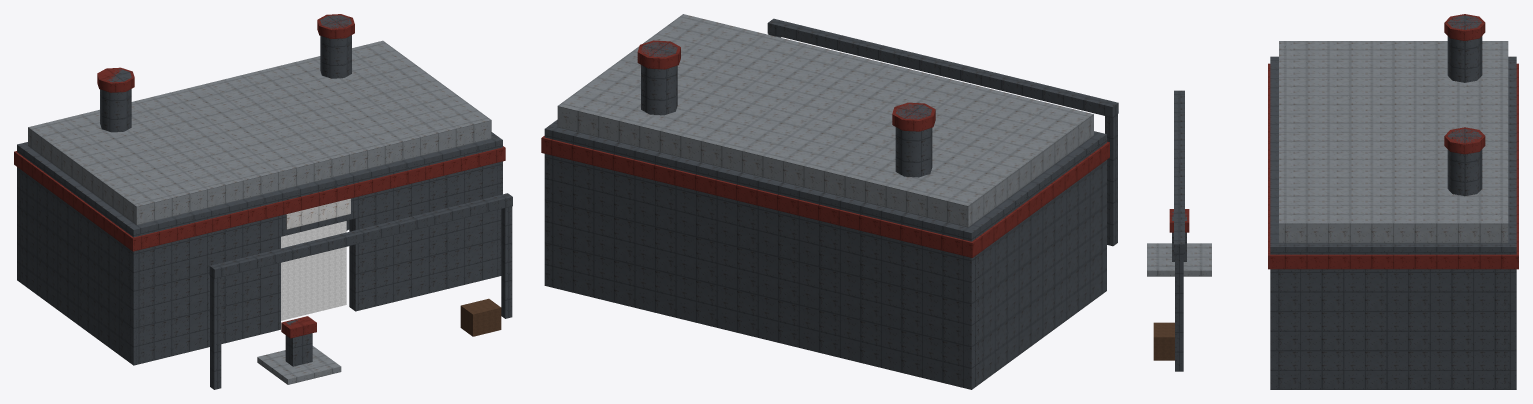
3 views of the same model, side by side, from view 1: azimuth 30°, elevation 25°; view 2: azimuth 150°, elevation 25°; view 3: azimuth 270°, elevation 25° (orthographic). The views are drawn at different scales.
Parts seen in each view (by area): view 1: garde_building_forge; view 2: garde_building_forge; view 3: garde_building_forge.
Part boxes in pixels (x1=…): garde_building_forge: x1=14, y1=14, x2=512, y2=389; garde_building_forge: x1=541, y1=14, x2=1118, y2=389; garde_building_forge: x1=1147, y1=14, x2=1518, y2=389.
Size of the model in its own units: 21 by 11 by 17.2.
6 materials, 6 textured.
